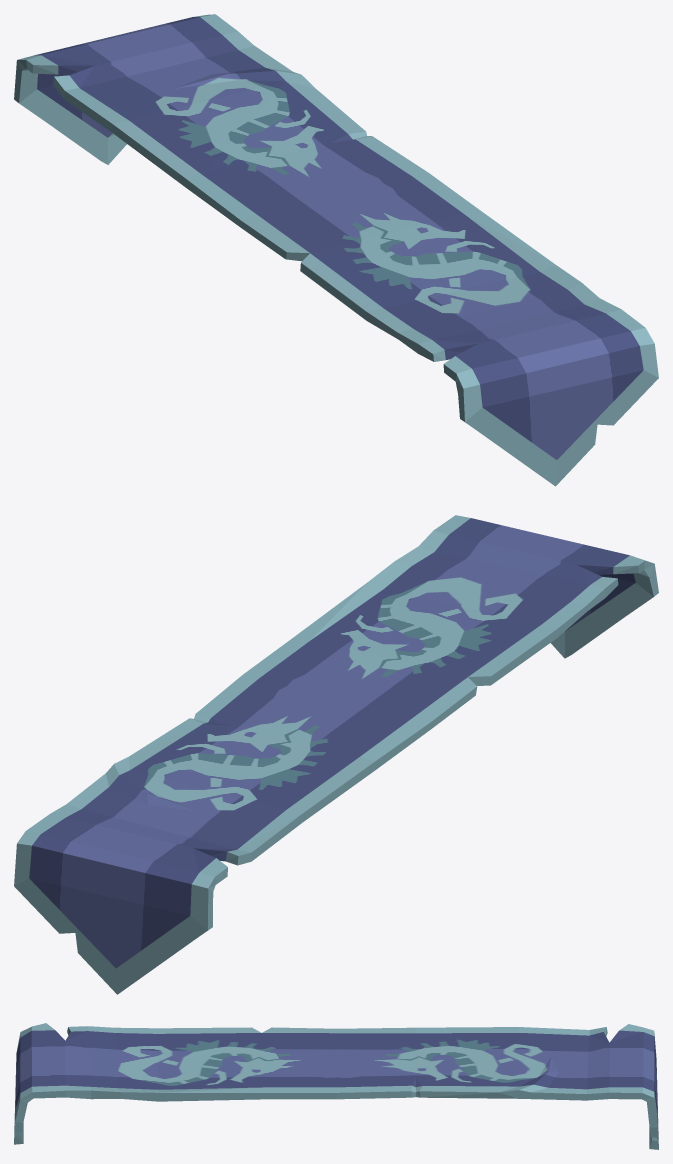
File: SM_Prop_Table_Runner_03.fbx
3 renders of one model, top to bottom at view 1: azimuth 30°, elevation 25°; view 2: azimuth 150°, elevation 25°; view 3: azimuth 270°, elevation 25°, orthographic. The views are drawn at different scales.
Visible parts, largest first — view 1: SM_Prop_Table_Runner_03; view 2: SM_Prop_Table_Runner_03; view 3: SM_Prop_Table_Runner_03.
Part boxes in pixels (left/top/right/bottom): SM_Prop_Table_Runner_03: left=14, top=14, right=658, bottom=486; SM_Prop_Table_Runner_03: left=14, top=515, right=658, bottom=994; SM_Prop_Table_Runner_03: left=14, top=1023, right=658, bottom=1149.
Size of the model in its own units: 64.28 by 42.89 by 261.
